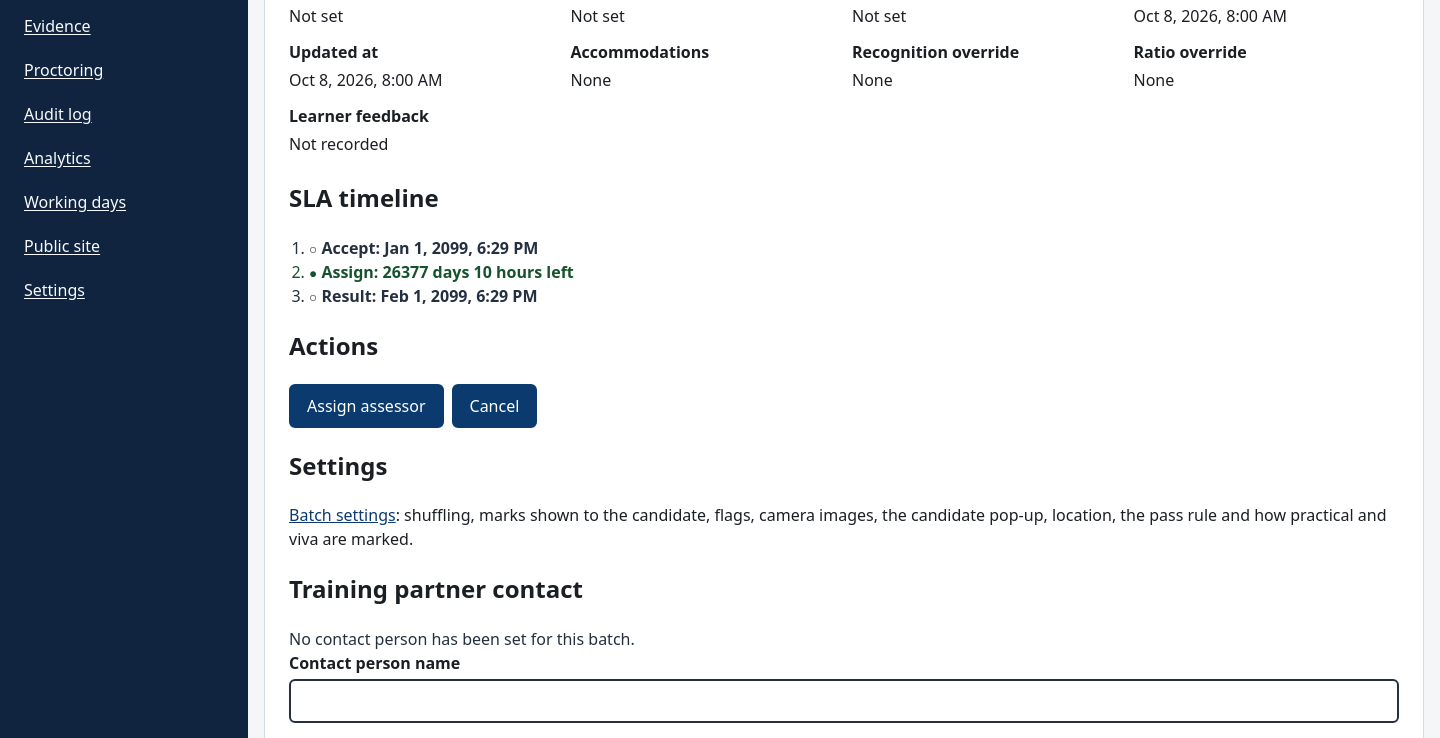
Test: retries assign with a ratio override after RULE_RATIO
(page scrolled)
Click the button "Assign assessor".
click(366, 406)  # box top-left (289, 384), bottom-right (444, 428)
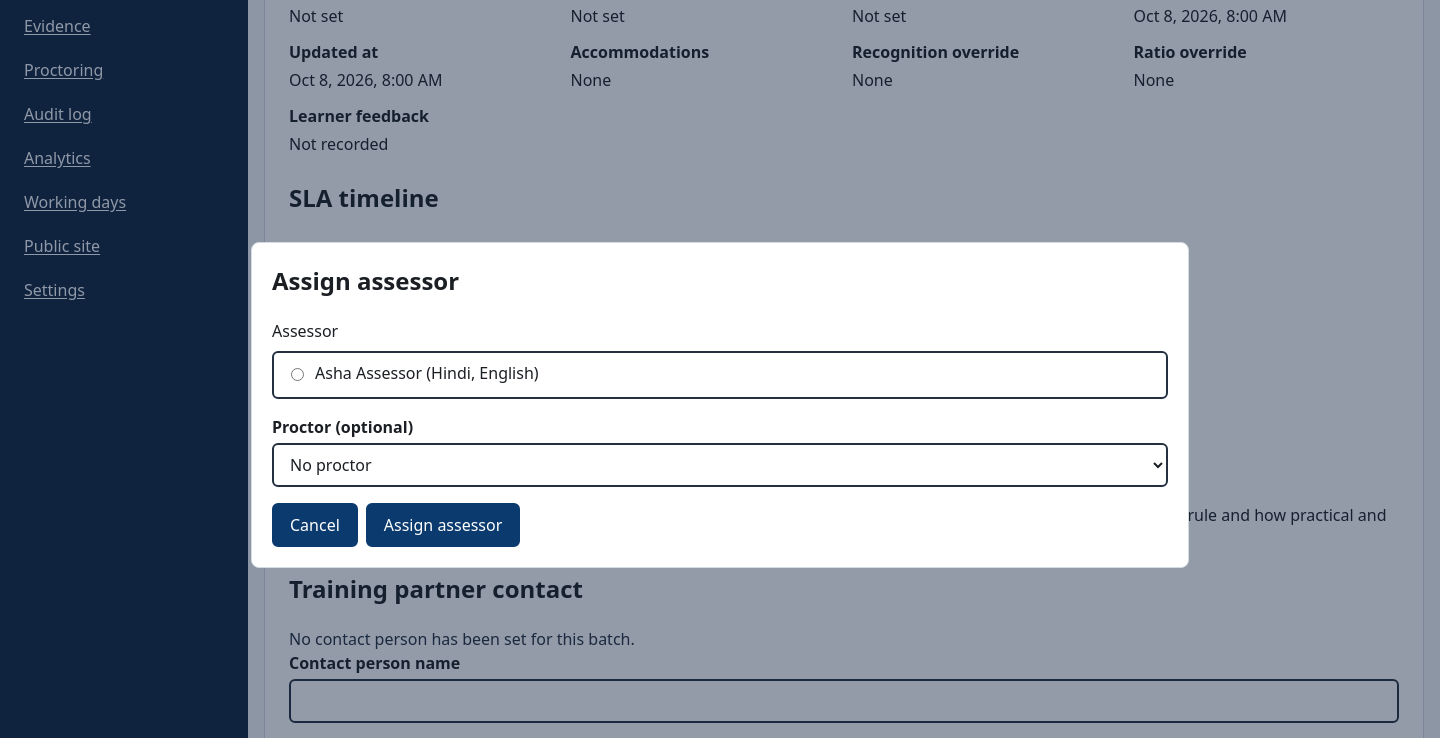
Click the radio button labelled "Asha Assessor (Hindi, English)".
click(298, 374)  # box top-left (291, 368), bottom-right (304, 381)
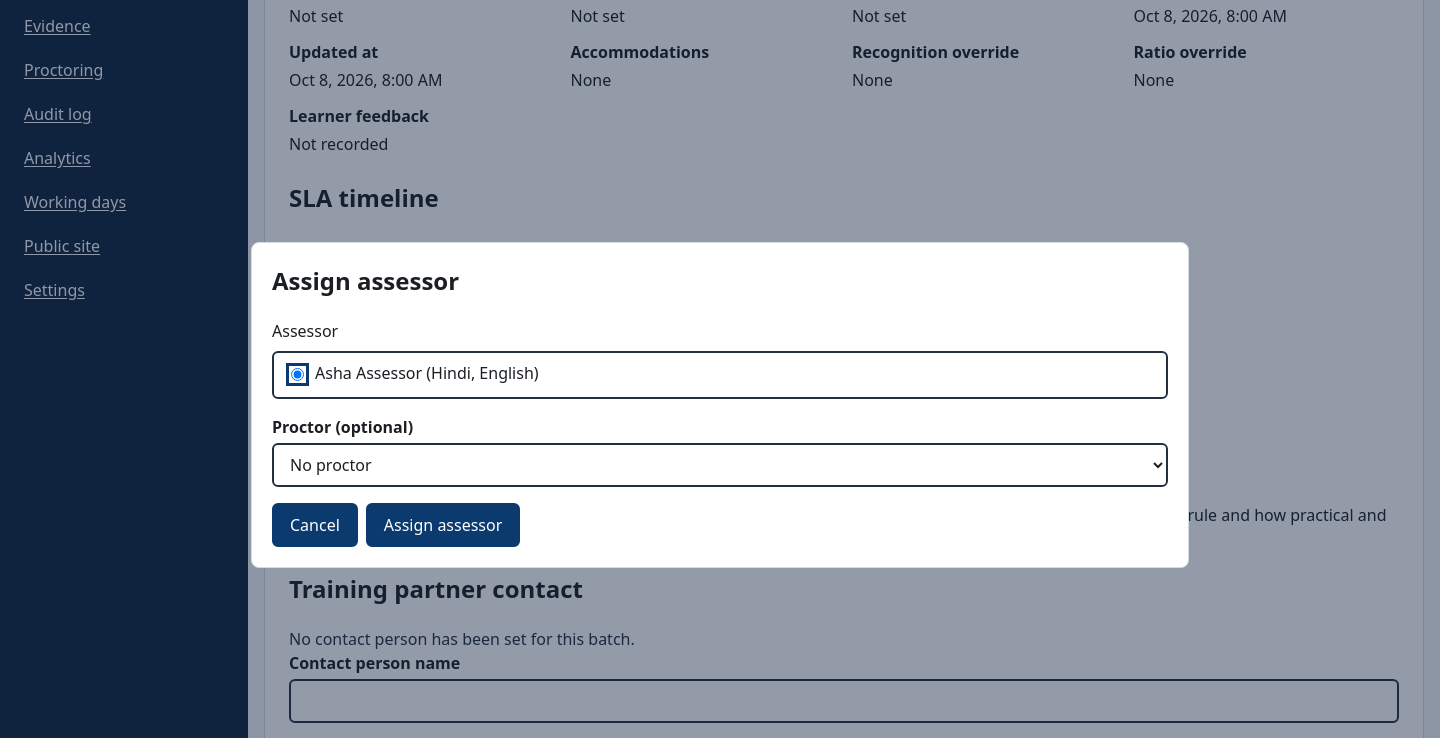
Click the button "Assign assessor".
click(443, 525)  # box top-left (366, 503), bottom-right (520, 547)
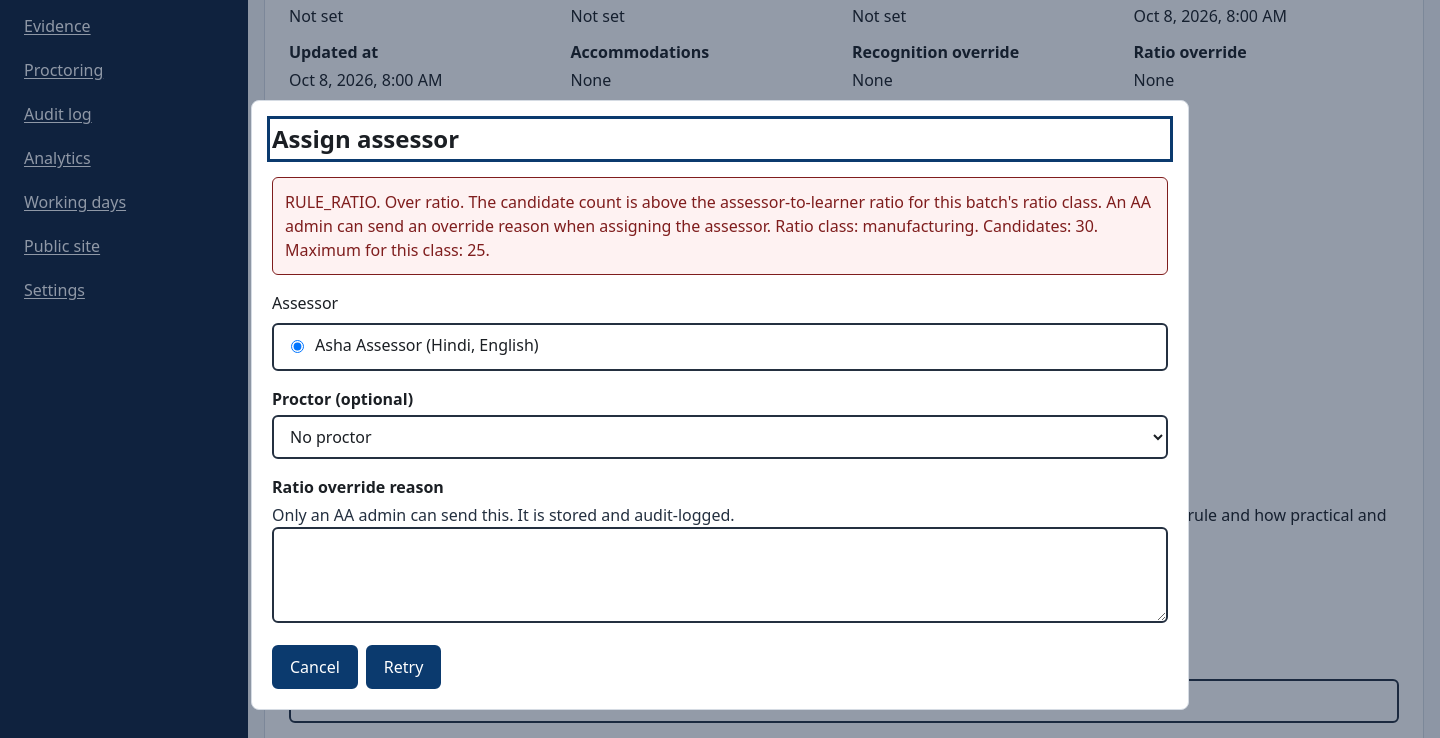
Expected: the message shows "assessor-to-learner ratio", top-left (285, 191), bottom-right (1151, 261)
Type "AB approved larger cohort" into the text box labelled "Ratio override reason".
click(720, 575); type("AB approved larger cohort")  # box top-left (272, 527), bottom-right (1168, 623)
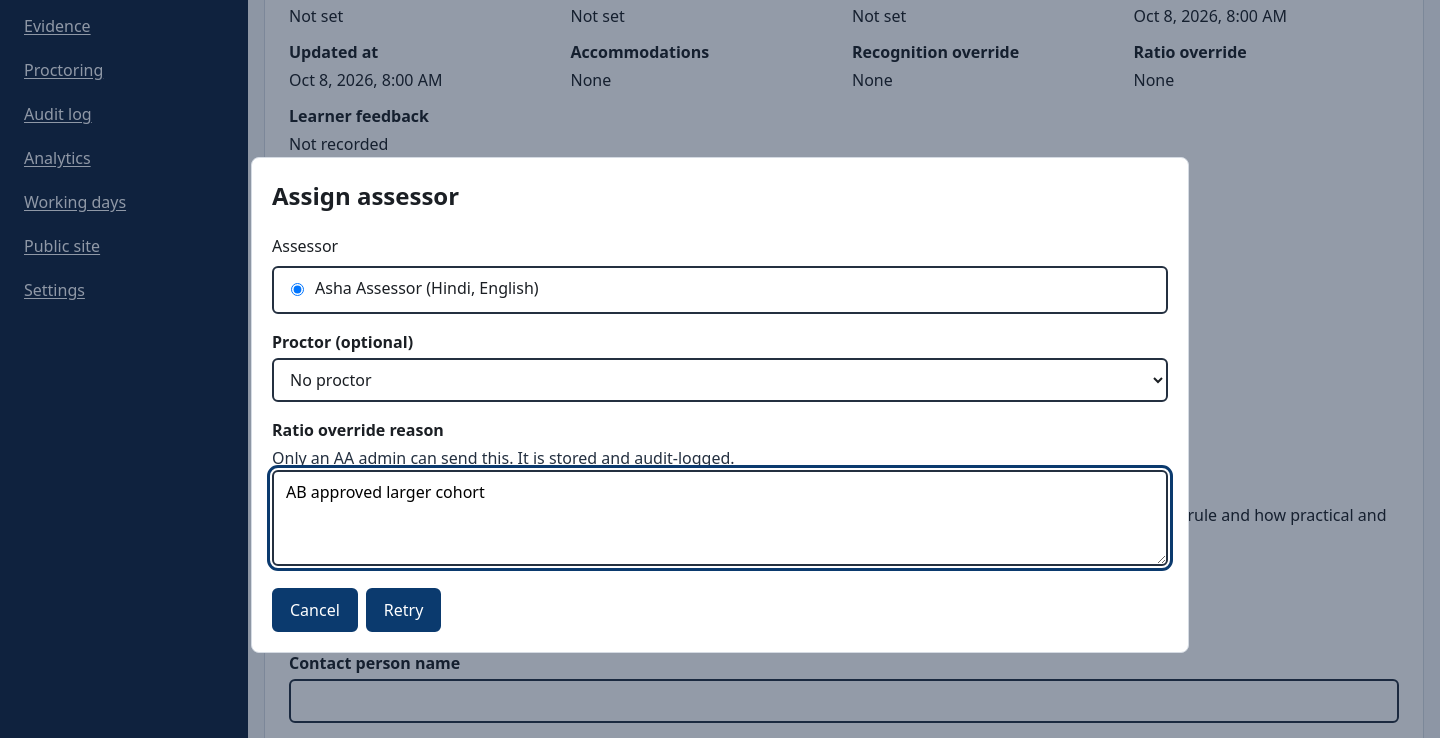
Click the button "Retry".
click(404, 610)  # box top-left (366, 588), bottom-right (441, 632)
(page scrolled)
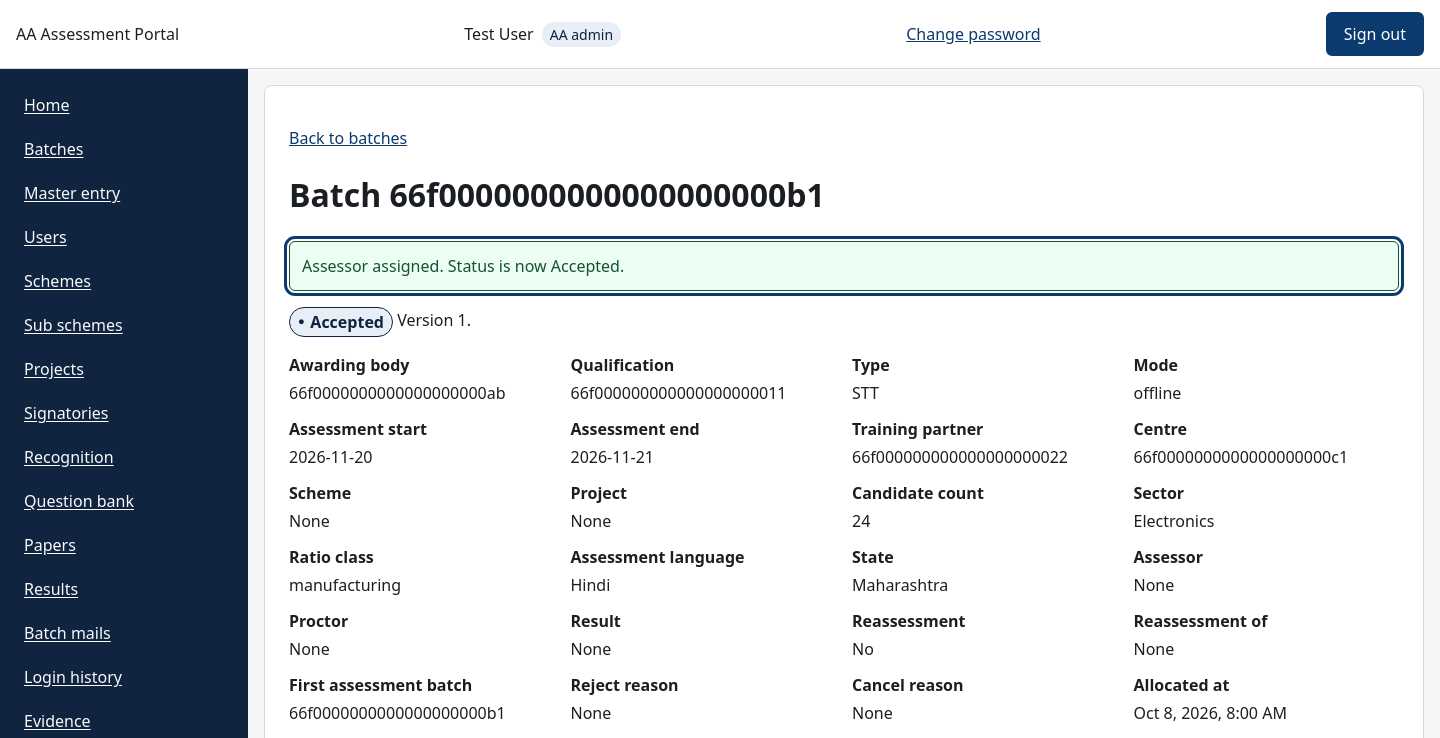
Expected: the text "Assessor assigned. Status is now Accepted." is shown, top-left (289, 241), bottom-right (1399, 291)
